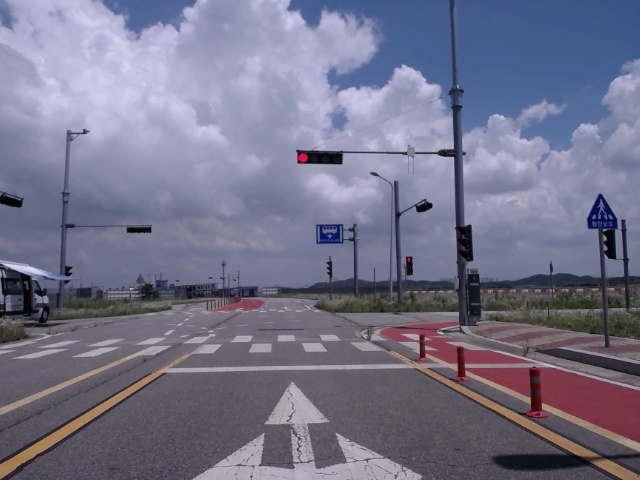red_4: (298, 152, 343, 164)
